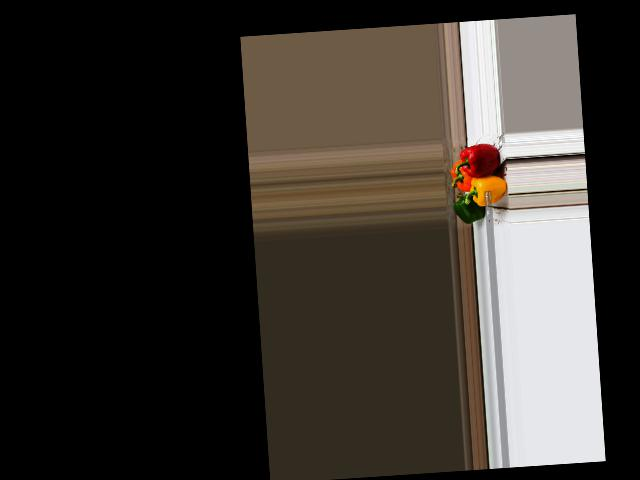bell_pepper: (449, 159, 474, 193)
